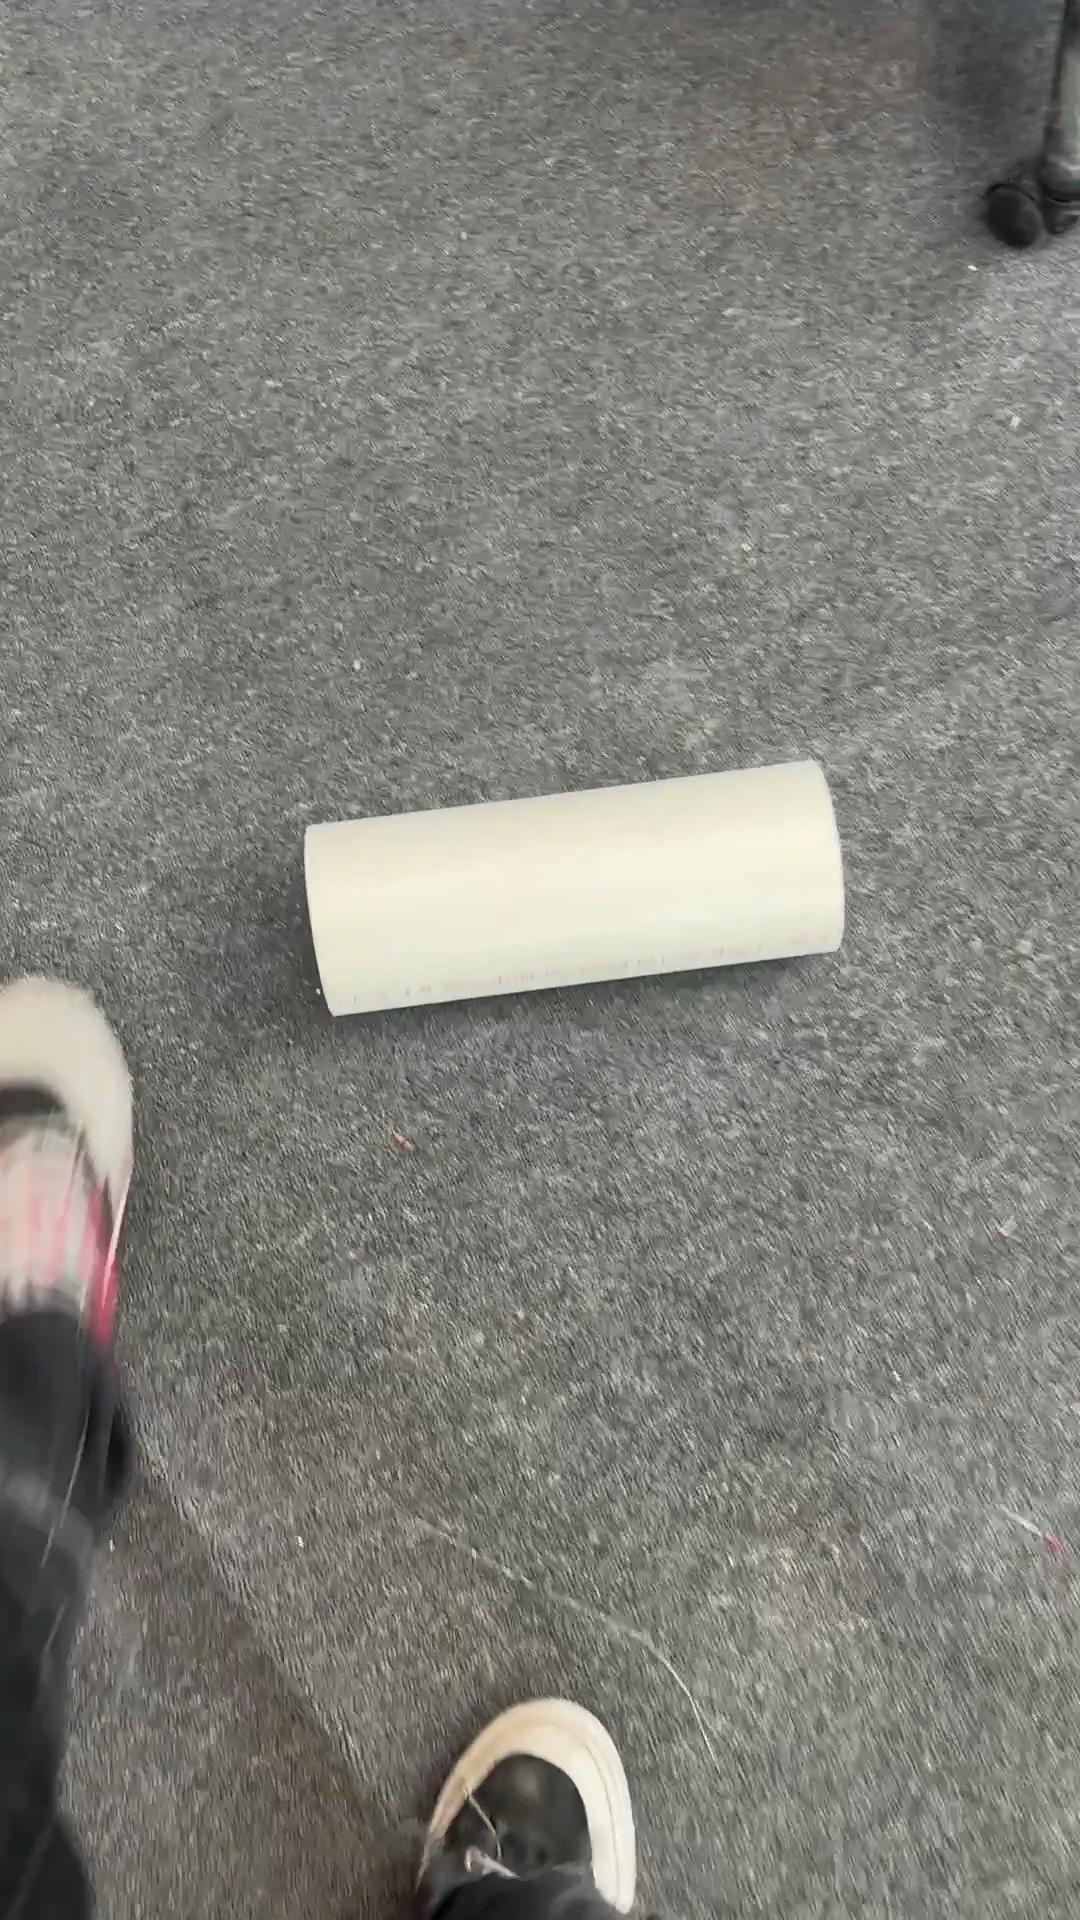CORAL: (300, 755, 846, 1019)
